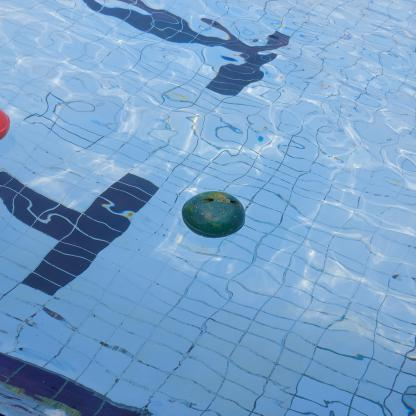green_buoy: (180, 189, 250, 240)
red_buoy: (0, 108, 11, 143)
